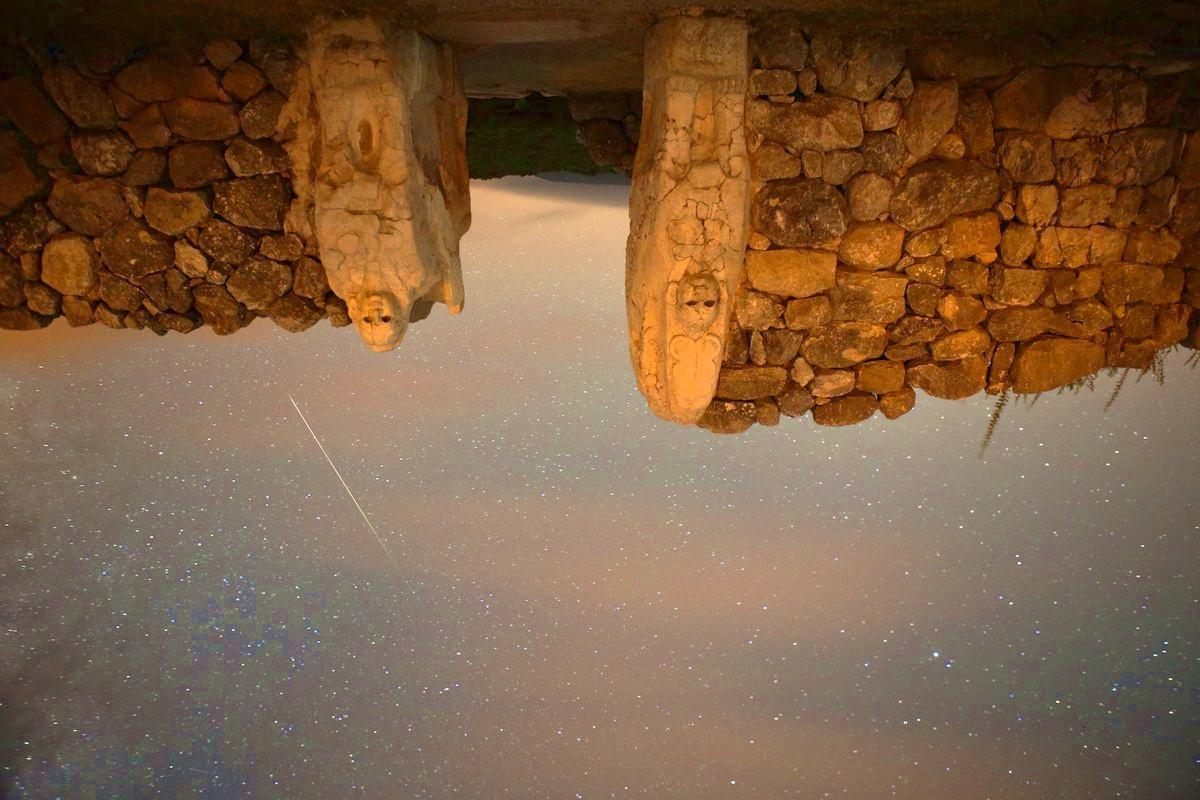meteorite: (260, 379, 431, 555)
